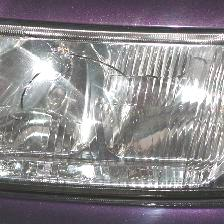head_lamp: (18, 46, 166, 98)
